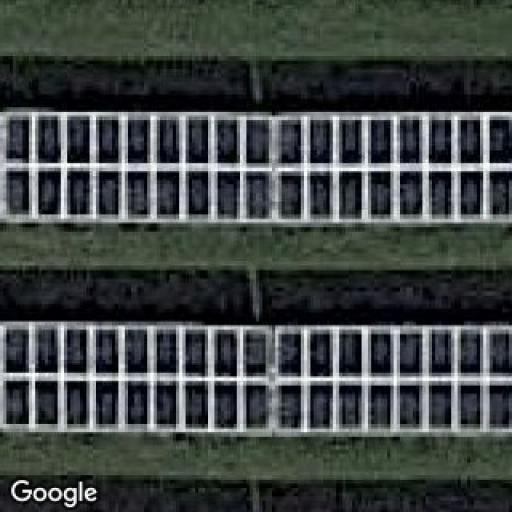solar-panel: (0, 318, 512, 436), (0, 112, 512, 221)
